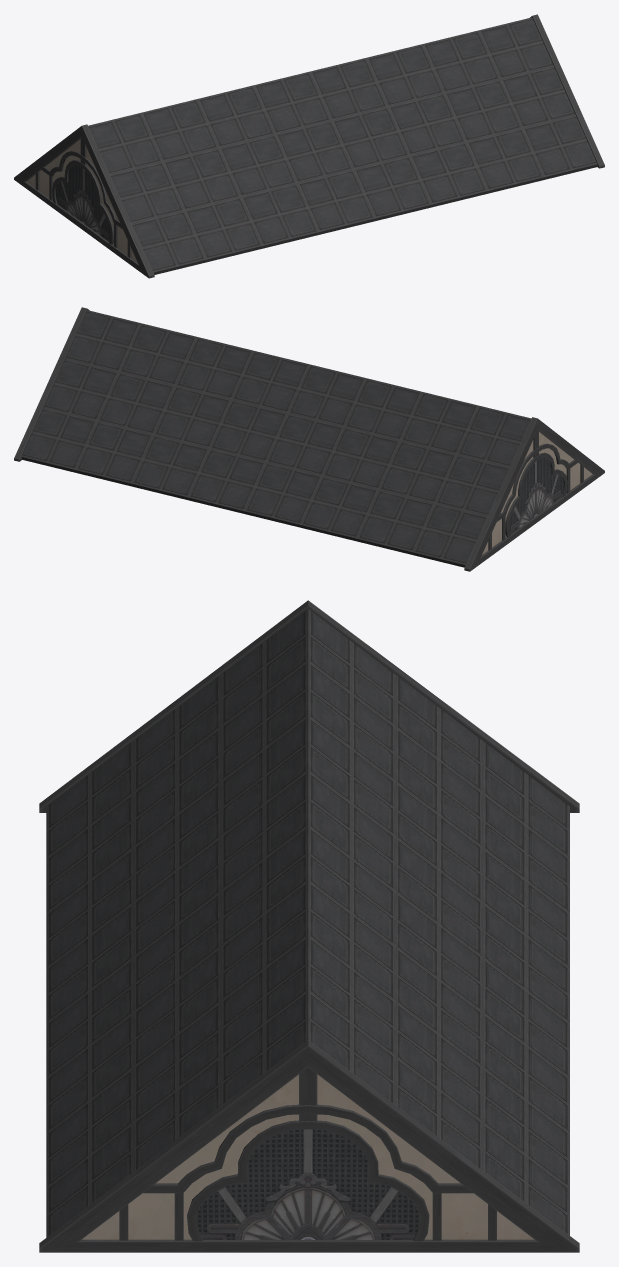
Rendered from Homeworld_Interior_Dq_Room_M_Ceiling_01_Vo.fbx.
The picture shows the model from 3 angles, top to bottom: view 1: azimuth 30°, elevation 25°; view 2: azimuth 150°, elevation 25°; view 3: azimuth 270°, elevation 25°; orthographic projection. The views are drawn at different scales.
Parts seen in each view (by area): view 1: Homeworld_Interior_Dq_Room_Ceiling_02_Vo (×4), Homeworld_Interior_Dq_Room_Ceiling_03_Vo (×2); view 2: Homeworld_Interior_Dq_Room_Ceiling_02_Vo (×4), Homeworld_Interior_Dq_Room_Ceiling_03_Vo (×2); view 3: Homeworld_Interior_Dq_Room_Ceiling_02_Vo (×4), Homeworld_Interior_Dq_Room_Ceiling_03_Vo (×2).
Boxes of the visible parts, <box> form: Homeworld_Interior_Dq_Room_Ceiling_02_Vo (×4): <box>88,17,597,274</box>; Homeworld_Interior_Dq_Room_Ceiling_03_Vo (×2): <box>14,14,604,278</box>; Homeworld_Interior_Dq_Room_Ceiling_02_Vo (×4): <box>22,310,531,567</box>; Homeworld_Interior_Dq_Room_Ceiling_03_Vo (×2): <box>14,307,604,571</box>; Homeworld_Interior_Dq_Room_Ceiling_02_Vo (×4): <box>46,609,569,1237</box>; Homeworld_Interior_Dq_Room_Ceiling_03_Vo (×2): <box>39,600,579,1252</box>.
Size of the model in its own units: 20.25 by 4.4 by 10.38.
